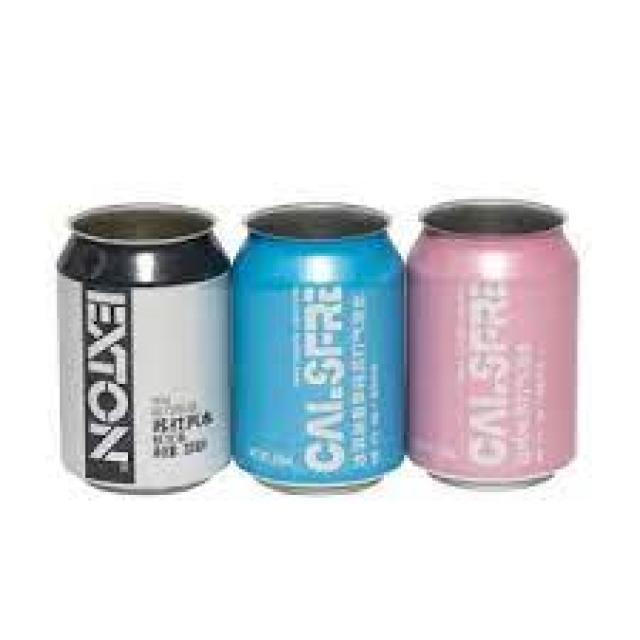Cans: (48, 194, 239, 506), (401, 188, 589, 489), (231, 193, 418, 495)
